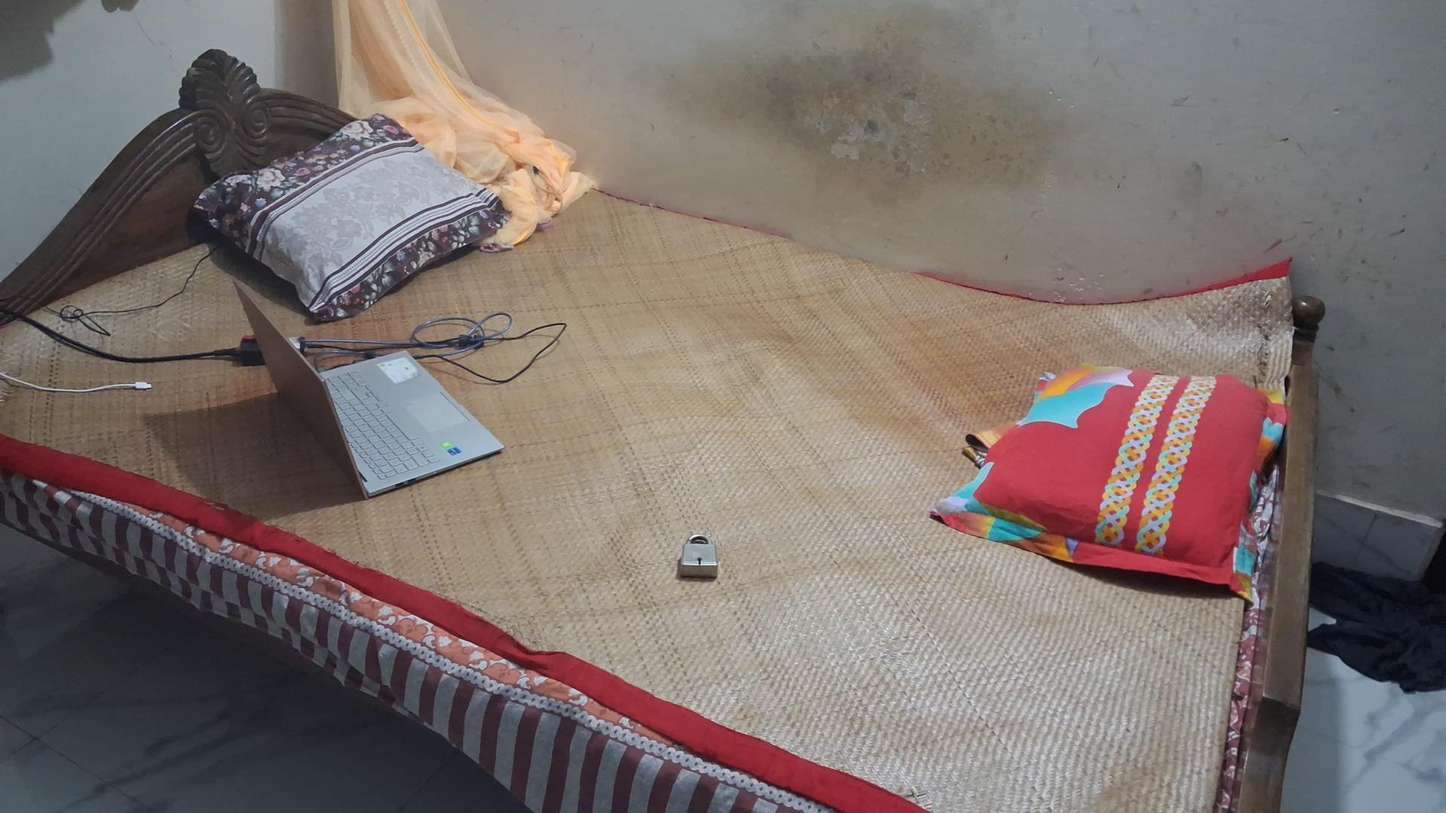Laptop: (232, 278, 506, 500)
Lock: (676, 528, 718, 582)
Pillow: (936, 369, 1286, 605), (187, 116, 512, 320)
